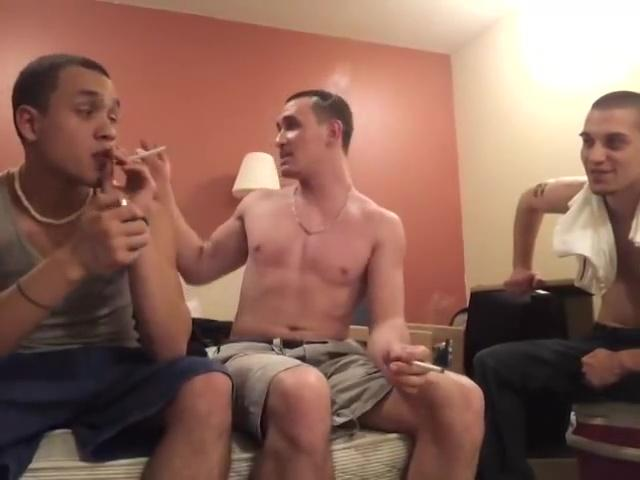cigarette: (410, 354, 450, 375), (125, 145, 170, 163)
